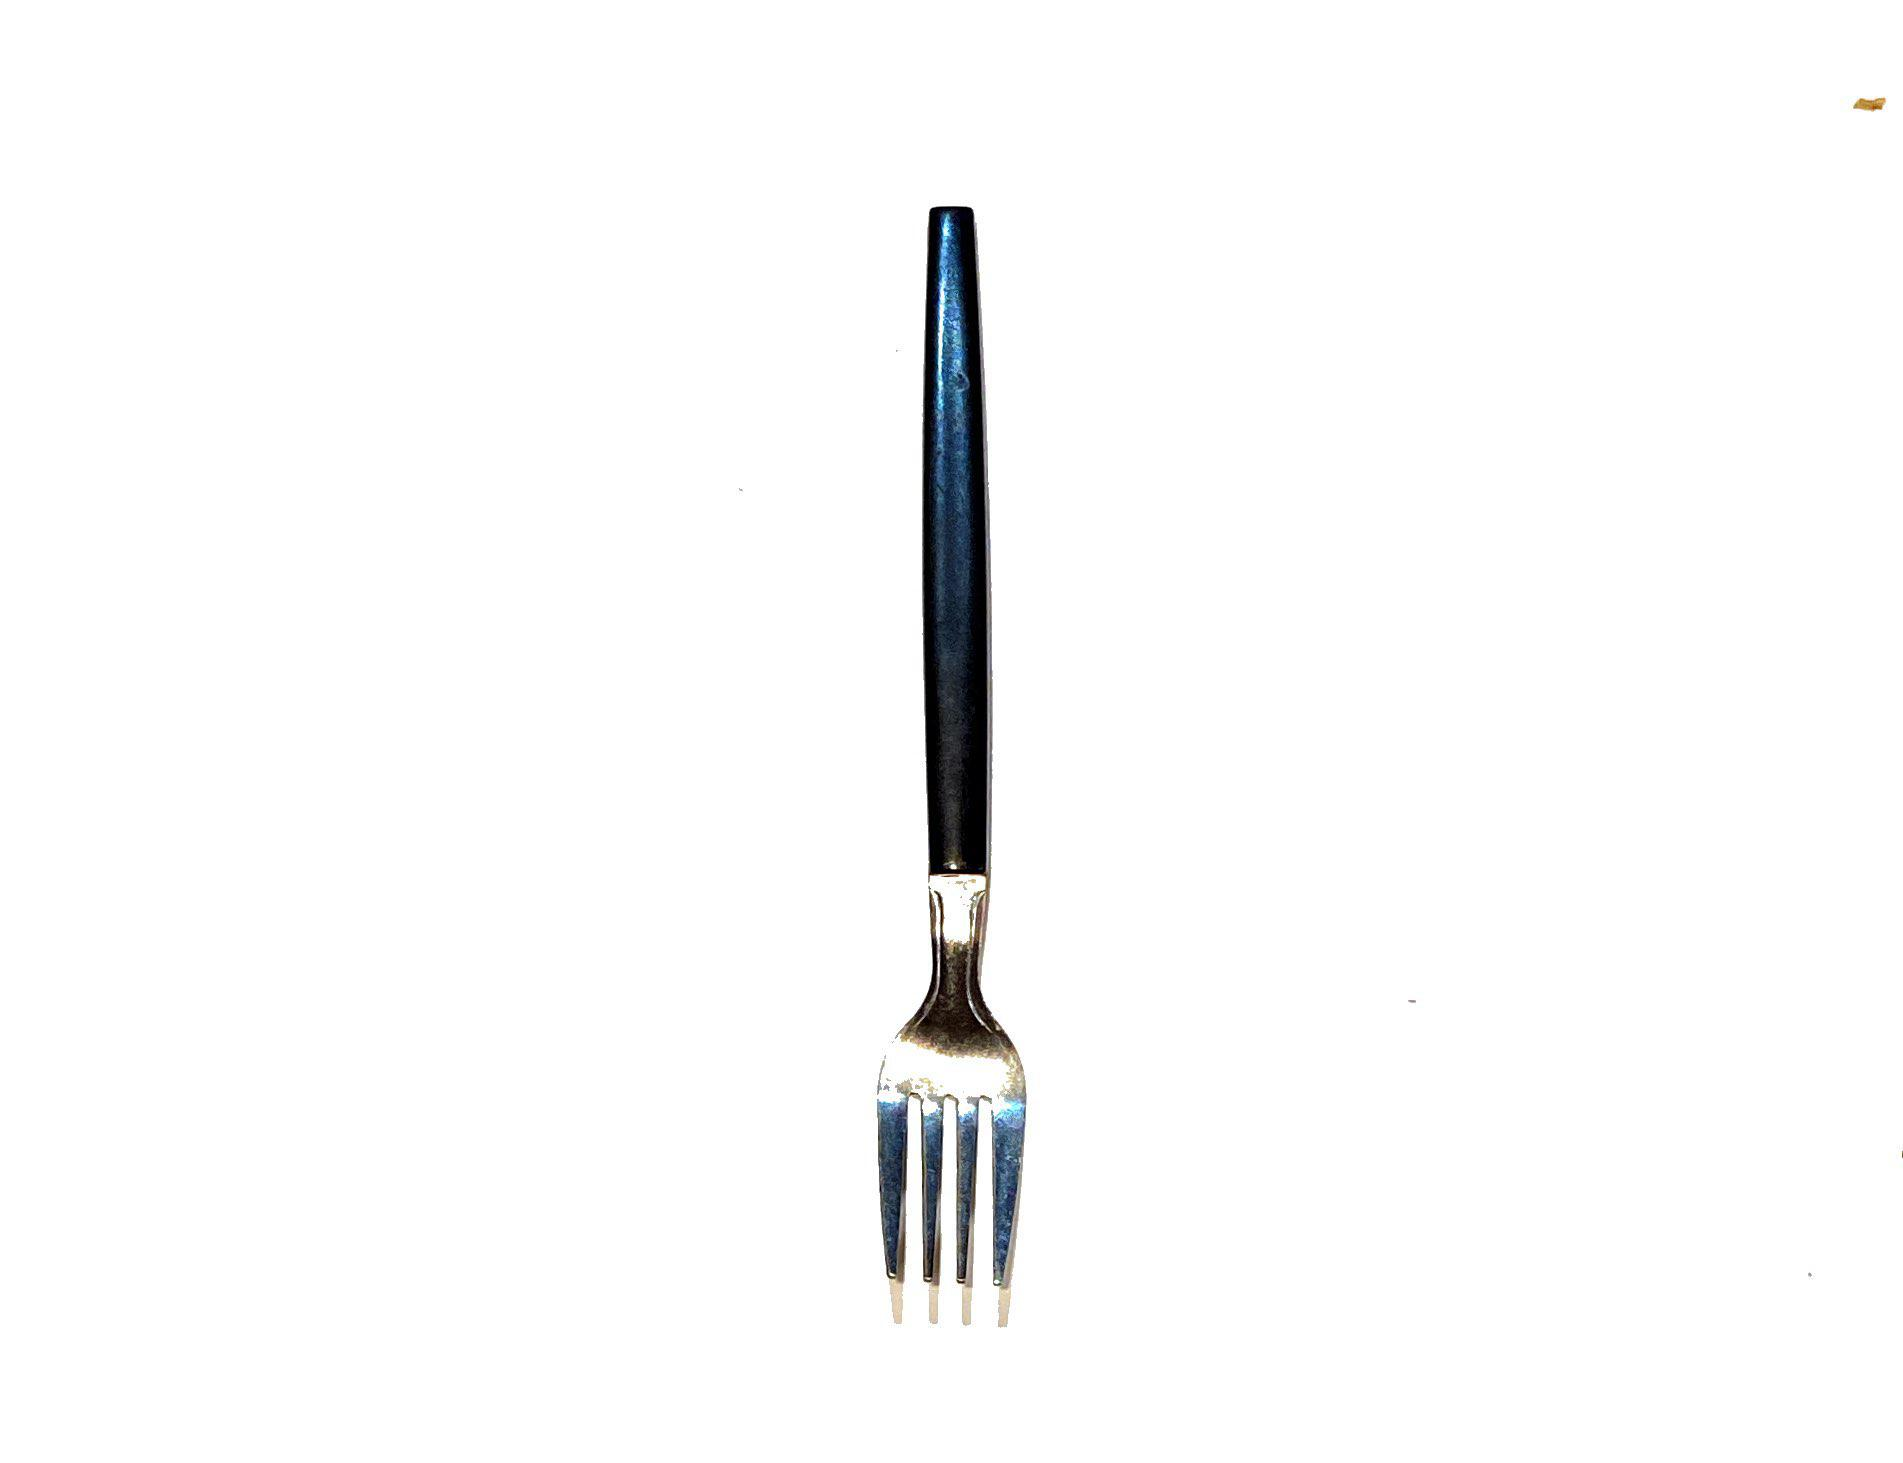Fork: (833, 168, 1127, 1369)
